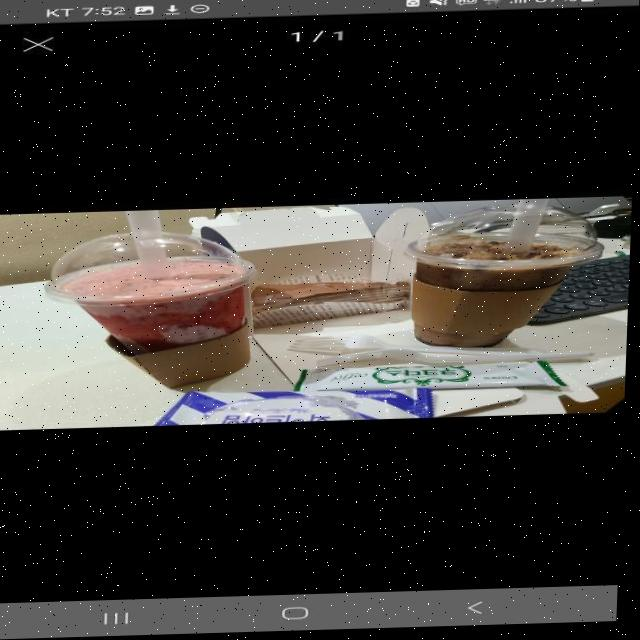cup: (44, 220, 332, 407), (372, 204, 634, 357)
